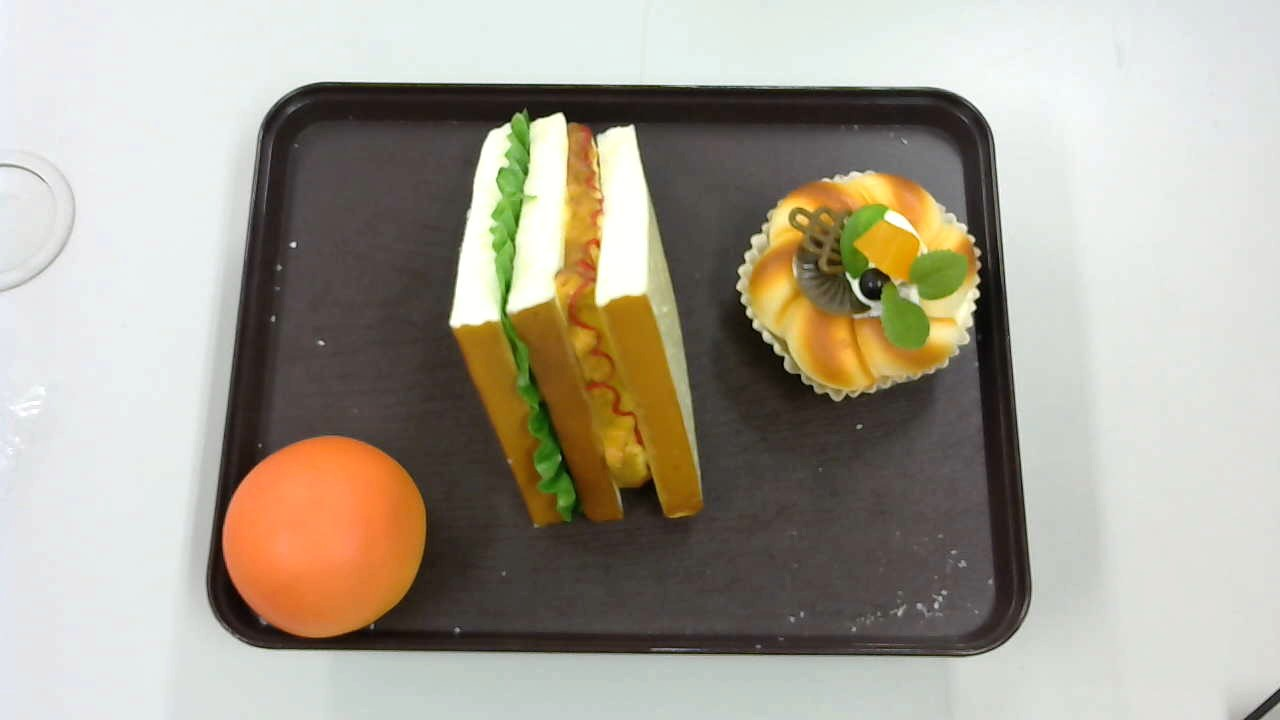bun: (221, 435, 425, 639)
fruit tart: (739, 170, 982, 400)
sandwich: (448, 107, 706, 530)
